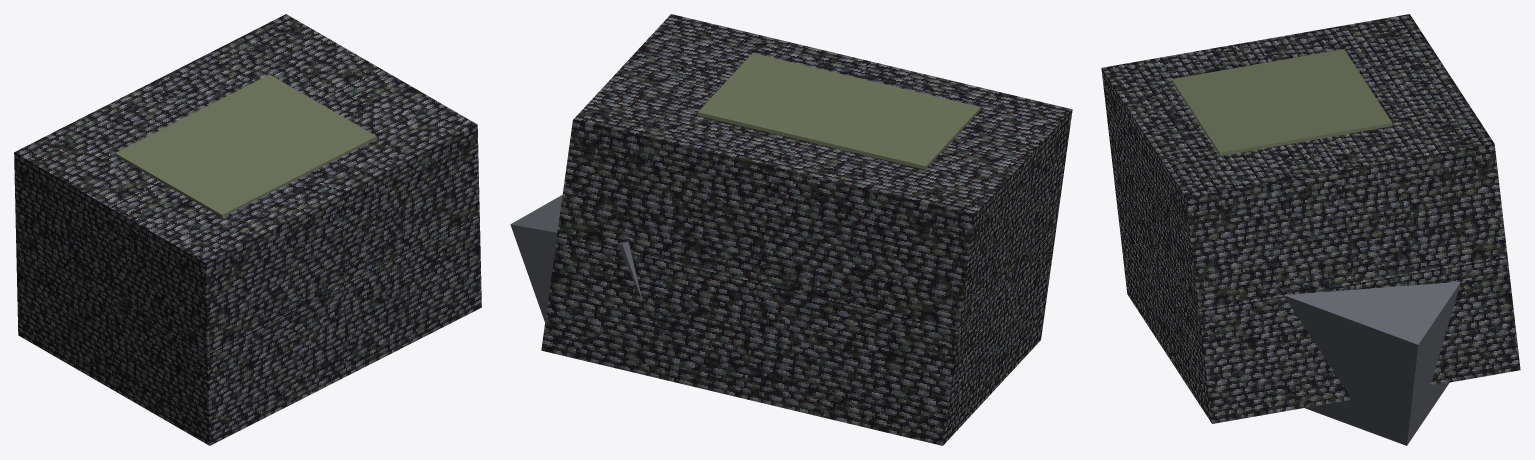
The model's file is roca_pequena.glb.
3 renders of one model, left to right at view 1: azimuth 30°, elevation 25°; view 2: azimuth 150°, elevation 25°; view 3: azimuth 270°, elevation 25°, orthographic. The views are drawn at different scales.
Visible parts, largest first — view 1: Cube, Cube.002; view 2: Cube, Cube.002, Cube.001; view 3: Cube, Cube.001, Cube.002.
Part boxes in pixels (x1,y1,x2,y2): Cube: (14,14,481,445); Cube.002: (115,74,376,217); Cube: (541,14,1072,445); Cube.002: (697,53,980,169); Cube.001: (510,195,642,322); Cube: (1101,14,1520,423); Cube.001: (1283,281,1460,445); Cube.002: (1171,49,1392,155).
Bounding box in the file's own units: 1.1 × 0.6661 × 0.8989.
Materials: 3 (1 with a texture image).
